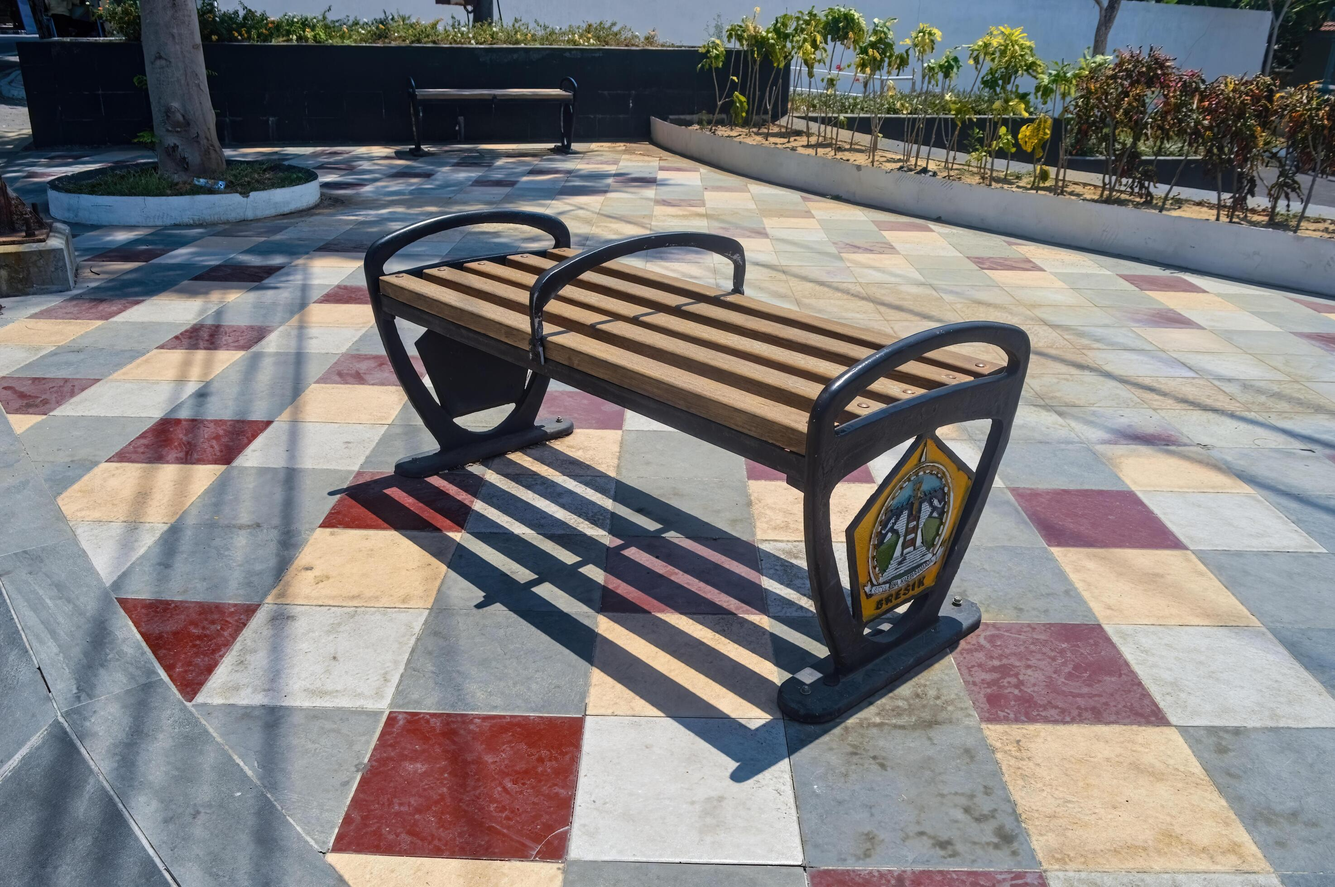Chair: (327, 190, 1034, 737), (381, 65, 589, 176)
